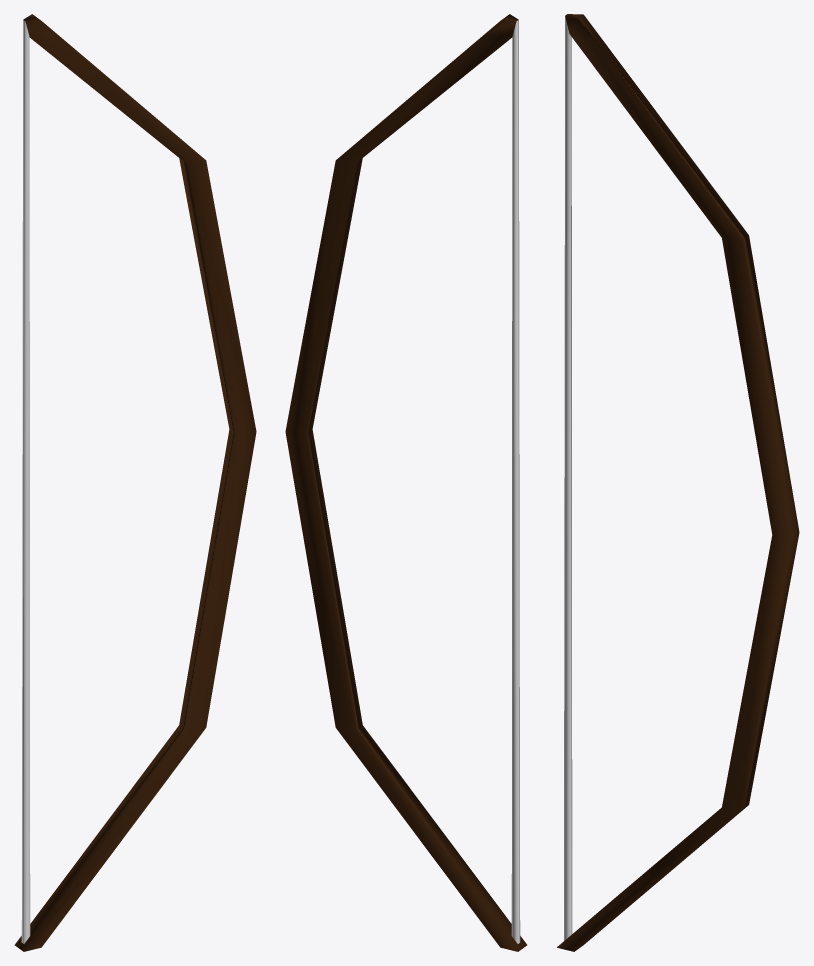
Rendered from panah.fbx.
3 renders of one model, left to right at view 1: azimuth 30°, elevation 25°; view 2: azimuth 150°, elevation 25°; view 3: azimuth 330°, elevation 25°, orthographic.
Visible parts, largest first — view 1: Cube; view 2: Cube; view 3: Cube.
Boxes of the visible parts, x1,y1,x2,y2 form: Cube: (14,14,256,951); Cube: (285,14,527,951); Cube: (557,14,799,951).
Bounding box in the file's own units: 43.13 × 164 × 3.
